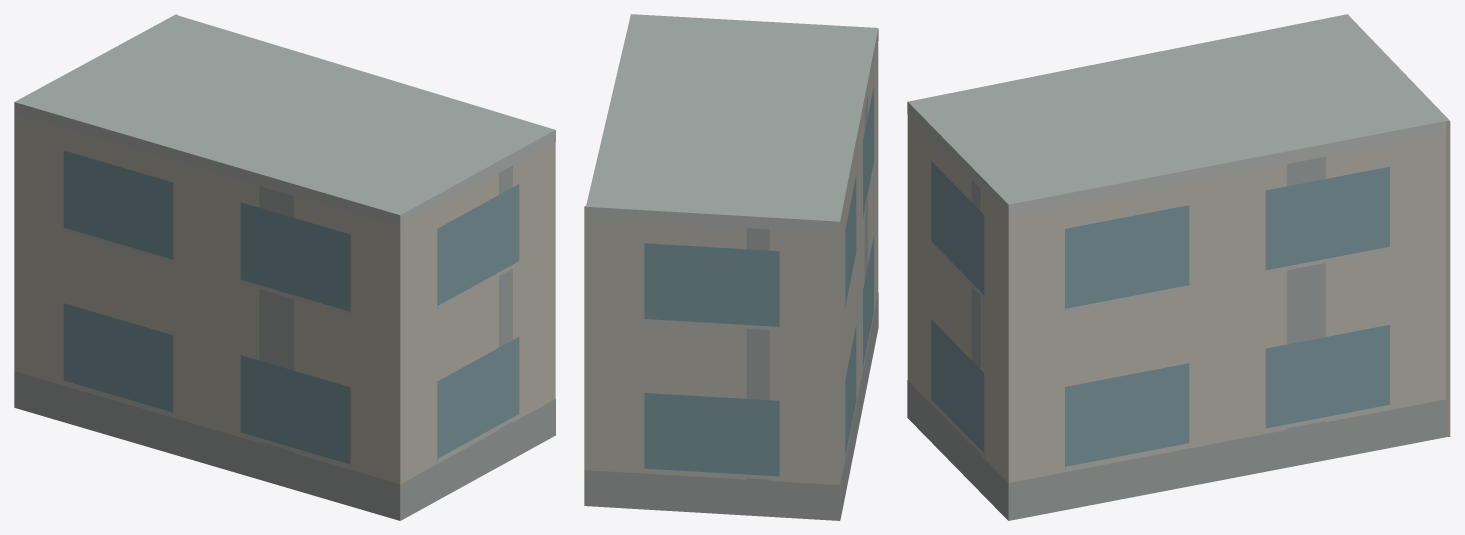
File: survey-upis-32970060.glb
3 renders of one model, left to right at view 1: azimuth 30°, elevation 25°; view 2: azimuth 150°, elevation 25°; view 3: azimuth 270°, elevation 25°, orthographic. The views are drawn at different scales.
Parts seen in each view (by area): view 1: survey-upis-32970060.tmp; view 2: survey-upis-32970060.tmp; view 3: survey-upis-32970060.tmp.
Part boxes in pixels (<box>): survey-upis-32970060.tmp: <box>14,14,555,520</box>; survey-upis-32970060.tmp: <box>584,14,878,520</box>; survey-upis-32970060.tmp: <box>907,14,1450,520</box>.
Size of the model in its own units: 7.9 by 6.1 by 9.5.
